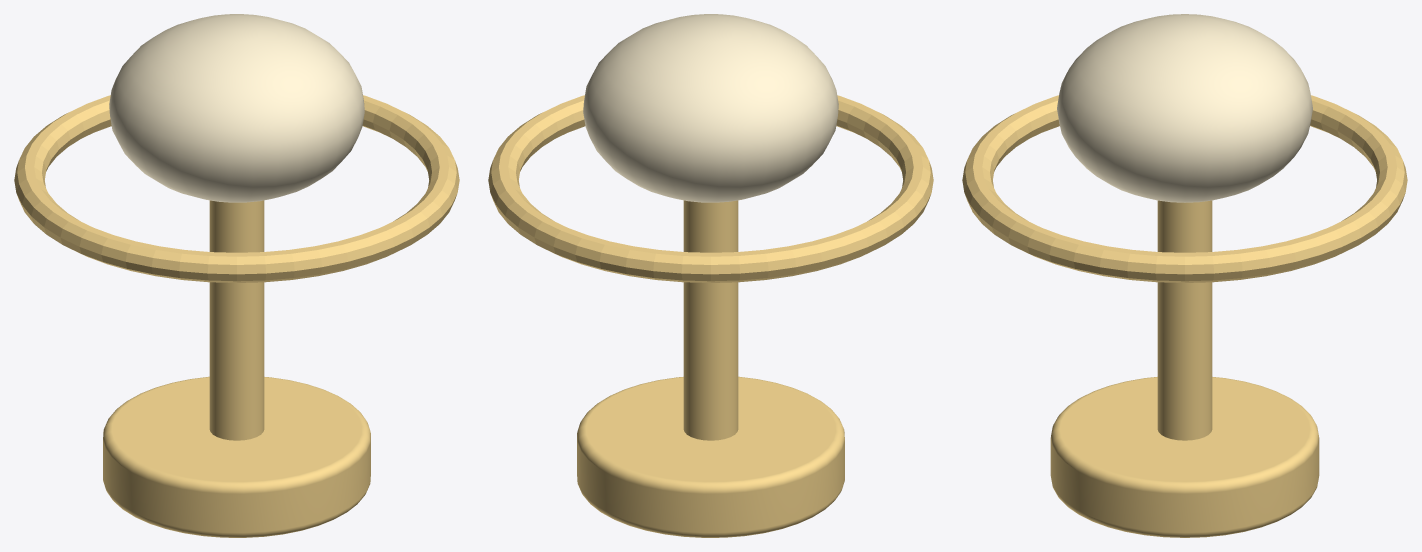
File: 圆润小台灯.fbx
3 views of the same model, side by side, from view 1: azimuth 30°, elevation 25°; view 2: azimuth 150°, elevation 25°; view 3: azimuth 270°, elevation 25° (orthographic).
Visible parts, largest first — view 1: 圆润小台灯_奶油灯罩, 圆润小台灯_底座, 圆润小台灯_灯罩下沿, 圆润小台灯_灯杆; view 2: 圆润小台灯_奶油灯罩, 圆润小台灯_底座, 圆润小台灯_灯罩下沿, 圆润小台灯_灯杆; view 3: 圆润小台灯_奶油灯罩, 圆润小台灯_底座, 圆润小台灯_灯罩下沿, 圆润小台灯_灯杆.
Part boxes in pixels (bbox=[...]): 圆润小台灯_奶油灯罩: bbox=[109, 14, 364, 202]; 圆润小台灯_底座: bbox=[103, 376, 370, 537]; 圆润小台灯_灯罩下沿: bbox=[14, 95, 459, 282]; 圆润小台灯_灯杆: bbox=[209, 200, 264, 440]; 圆润小台灯_奶油灯罩: bbox=[583, 14, 838, 202]; 圆润小台灯_底座: bbox=[577, 376, 844, 537]; 圆润小台灯_灯罩下沿: bbox=[488, 95, 933, 282]; 圆润小台灯_灯杆: bbox=[683, 200, 738, 440]; 圆润小台灯_奶油灯罩: bbox=[1057, 14, 1312, 202]; 圆润小台灯_底座: bbox=[1050, 377, 1319, 537]; 圆润小台灯_灯罩下沿: bbox=[962, 95, 1407, 282]; 圆润小台灯_灯杆: bbox=[1157, 200, 1212, 440].
Size of the model in its own units: 73 by 82 by 73.
